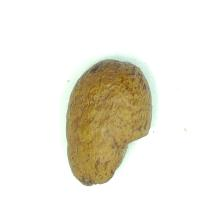NG: (83, 130, 148, 185)
